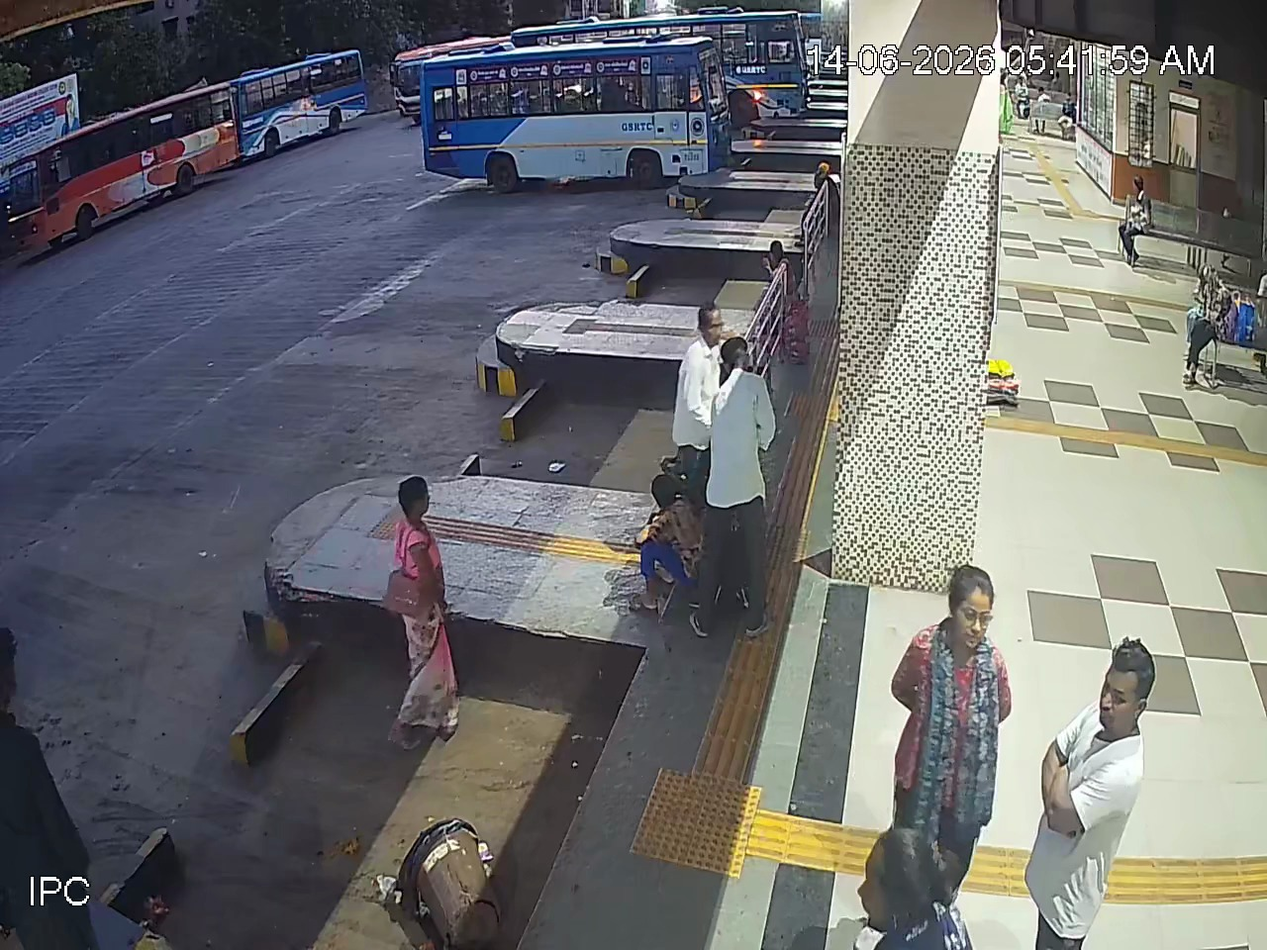bus: (0, 9, 381, 233), (396, 44, 737, 188), (598, 3, 844, 161), (210, 50, 373, 156)
pedestrian: (901, 544, 1017, 940), (1054, 623, 1162, 944), (694, 297, 776, 628), (0, 590, 95, 870), (381, 467, 458, 729), (666, 294, 727, 587), (0, 606, 62, 875), (727, 301, 773, 614), (632, 457, 705, 627), (668, 298, 725, 504), (748, 228, 815, 370), (1116, 173, 1155, 264)
